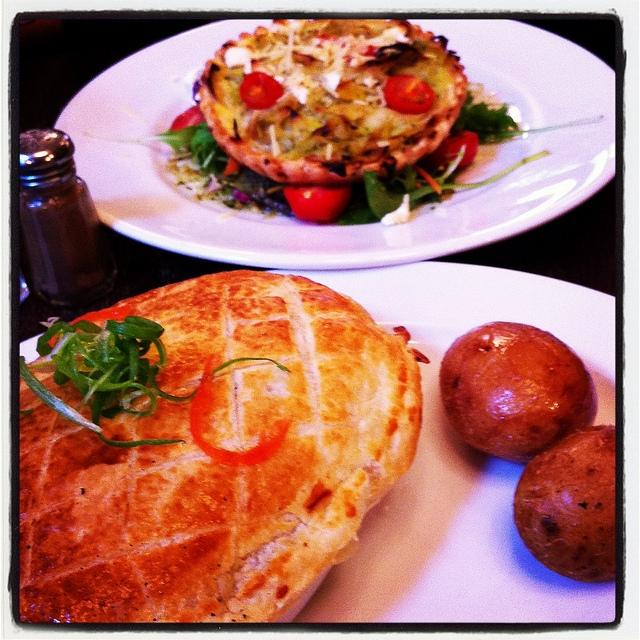potato: (439, 320, 599, 466), (514, 426, 616, 584)
tomato: (47, 304, 136, 348), (284, 184, 352, 222), (384, 75, 435, 115), (434, 130, 478, 170), (240, 71, 284, 110), (170, 105, 206, 131), (359, 45, 379, 57)
